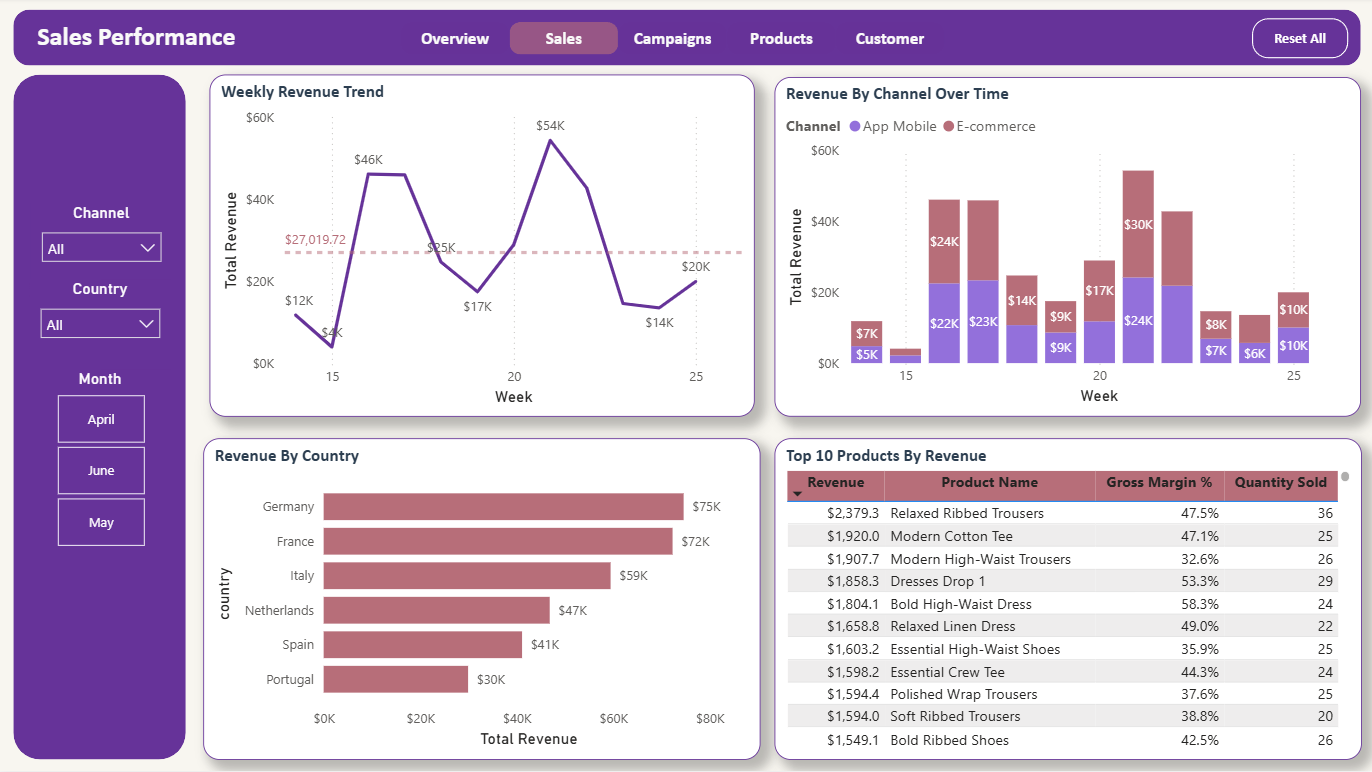

The page's visual inventory and layout, read from the dashboard file:
{"tool":"powerbi","page":{"name":"Sales Performance","canvas":[1280,720],"ordinal":1},"visuals":[{"type":"shape","box":[15.1,11.6,1253.5,52.3],"z":0},{"type":"actionButton","box":[375.6,23.3,101.2,30.2],"z":1000},{"type":"actionButton","box":[476.7,23.3,101.2,30.2],"z":2000},{"type":"actionButton","box":[577.9,23.3,101.2,30.2],"z":3000},{"type":"actionButton","box":[679.1,23.3,101.2,30.2],"z":4000},{"type":"actionButton","box":[780.2,23.3,101.2,30.2],"z":5000},{"type":"textbox","box":[32.6,16.3,265.1,44.2],"z":6000},{"type":"shape","box":[15.1,72.1,160.5,637.2],"z":7000},{"type":"lineChart","title":"Weekly Revenue Trend","fields":{"Y":["_Measures.Total Revenue"],"Category":["Calendar.Week"]},"box":[197.7,72.1,507,318.6],"z":8000},{"type":"columnChart","title":"Revenue By Channel Over Time","fields":{"Y":["_Measures.Total Revenue"],"Category":["Calendar.Week"],"Series":["channels.channel"]},"box":[723.3,74.4,545.4,316.3],"z":9000},{"type":"clusteredBarChart","title":"Revenue By Country","fields":{"Y":["_Measures.Total Revenue"],"Category":["sales.country"]},"box":[191.9,410.5,518.6,298.8],"z":10000},{"type":"tableEx","title":"Top 10 Products By Revenue","fields":{"Values":["_Measures.Total Revenue","products.product_name","_Measures.Gross Margin %","_Measures.Total Quantity Sold"]},"box":[723.3,410.5,546.5,298.8],"z":11000},{"type":"slicer","title":"Month","fields":{"Values":["Calendar.Month"]},"box":[30.2,346.7,131.4,170.9],"z":12000},{"type":"slicer","title":"Channel","fields":{"Values":["channels.channel"]},"box":[31.4,192,131.4,70.9],"z":13000},{"type":"slicer","title":"Country","fields":{"Values":["sales.country"]},"box":[30.2,263,131.4,67.4],"z":14000},{"type":"actionButton","box":[1167.4,19.8,89.5,37.2],"z":15000}]}

Visuals, with their boxes in screenshot pixels (x1, y1, x2, y2), scaled from the page's 1280x720 canvas onto the 1372x772 screenshot:
shape: [16, 12, 1360, 69]
actionButton: [403, 25, 511, 57]
actionButton: [511, 25, 619, 57]
actionButton: [619, 25, 728, 57]
actionButton: [728, 25, 836, 57]
actionButton: [836, 25, 945, 57]
textbox: [35, 17, 319, 65]
shape: [16, 77, 188, 761]
"Weekly Revenue Trend" lineChart: [212, 77, 755, 419]
"Revenue By Channel Over Time" columnChart: [775, 80, 1360, 419]
"Revenue By Country" clusteredBarChart: [206, 440, 762, 761]
"Top 10 Products By Revenue" tableEx: [775, 440, 1361, 761]
"Month" slicer: [32, 372, 173, 555]
"Channel" slicer: [34, 206, 175, 282]
"Country" slicer: [32, 282, 173, 354]
actionButton: [1251, 21, 1347, 61]
